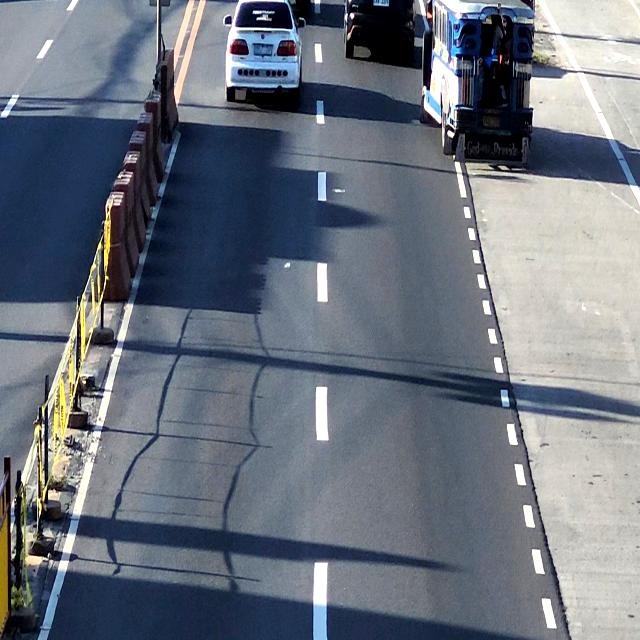Car: (225, 0, 299, 103), (341, 0, 415, 58)
Jeep: (423, 0, 531, 169)
License-Plate: (254, 40, 274, 58), (483, 112, 501, 128), (373, 0, 389, 10)
